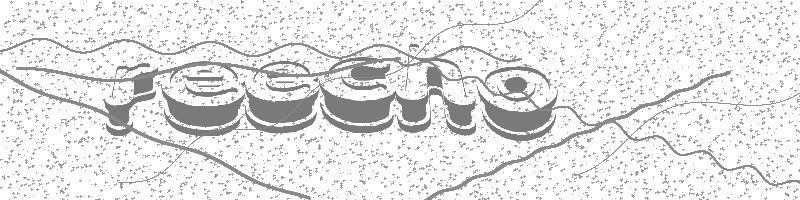c: (318, 52, 399, 139)
e: (161, 62, 245, 134), (248, 57, 320, 138)
h: (399, 40, 480, 138)
o: (478, 59, 564, 142)
r: (99, 62, 161, 136)
